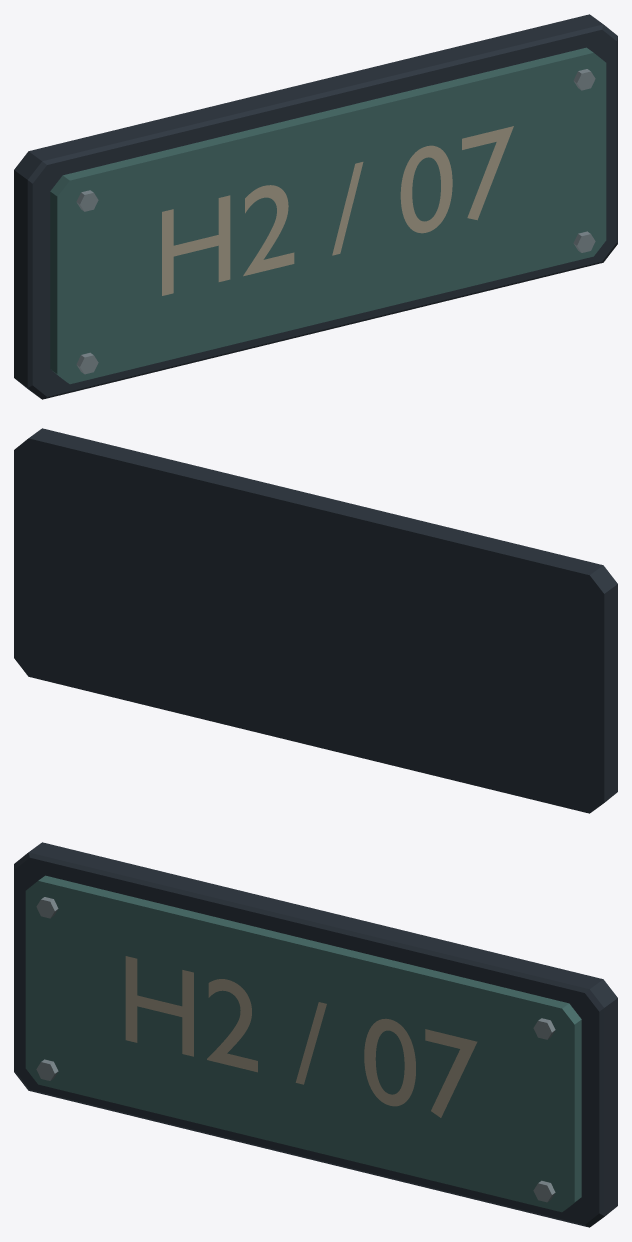
The model's file is R-03_stall_plate.glb.
3 renders of one model, top to bottom at view 1: azimuth 30°, elevation 25°; view 2: azimuth 150°, elevation 25°; view 3: azimuth 330°, elevation 25°, orthographic.
Parts seen in each view (by area): view 1: R-03_stall_plate; view 2: R-03_stall_plate; view 3: R-03_stall_plate.
Part boxes in pixels (bbox=[...]): R-03_stall_plate: bbox=[14, 14, 617, 399]; R-03_stall_plate: bbox=[14, 428, 617, 813]; R-03_stall_plate: bbox=[14, 842, 617, 1227].
Size of the model in its own units: 0.57 by 0.22 by 0.048.
